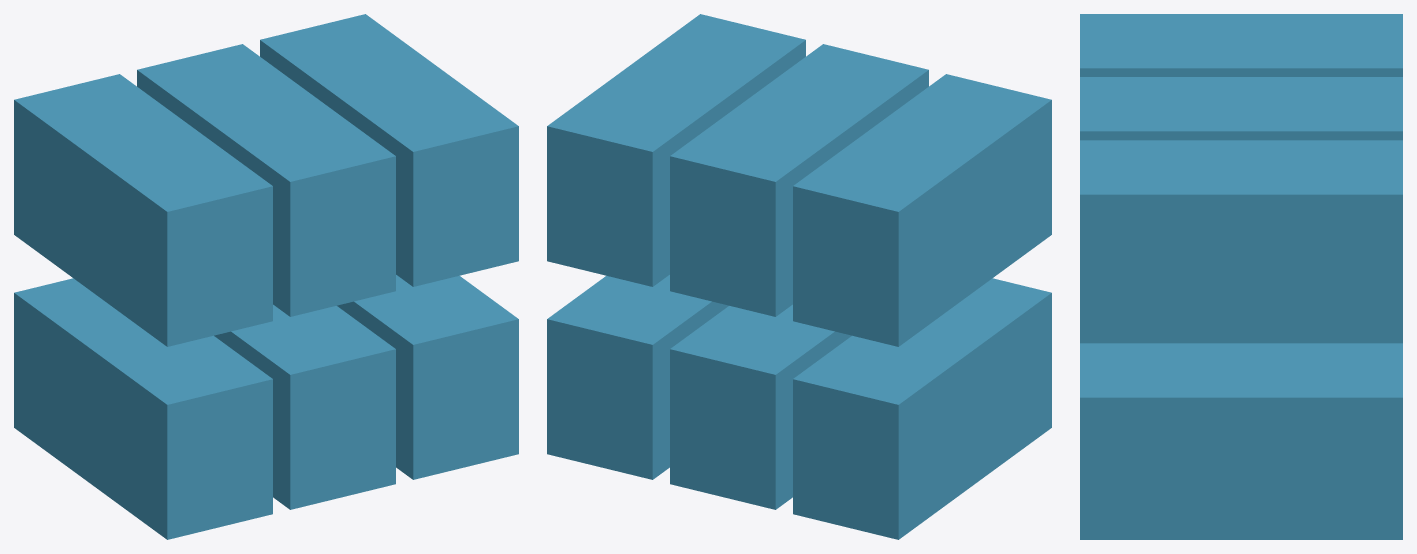
The model's file is FacadeKit_LowriseWindowGrid_LOD1.glb.
3 views of the same model, side by side, from view 1: azimuth 30°, elevation 25°; view 2: azimuth 150°, elevation 25°; view 3: azimuth 270°, elevation 25° (orthographic). The views are drawn at different scales.
Parts seen in each view (by area): view 1: FacadeKit_LowriseWindowGrid_LOD1; view 2: FacadeKit_LowriseWindowGrid_LOD1; view 3: FacadeKit_LowriseWindowGrid_LOD1.
Boxes of the visible parts, x1,y1,x2,y2 form: FacadeKit_LowriseWindowGrid_LOD1: [14, 14, 518, 539]; FacadeKit_LowriseWindowGrid_LOD1: [547, 14, 1051, 539]; FacadeKit_LowriseWindowGrid_LOD1: [1080, 14, 1402, 539].
Size of the model in its own units: 0.9533 by 0.85 by 0.72.
